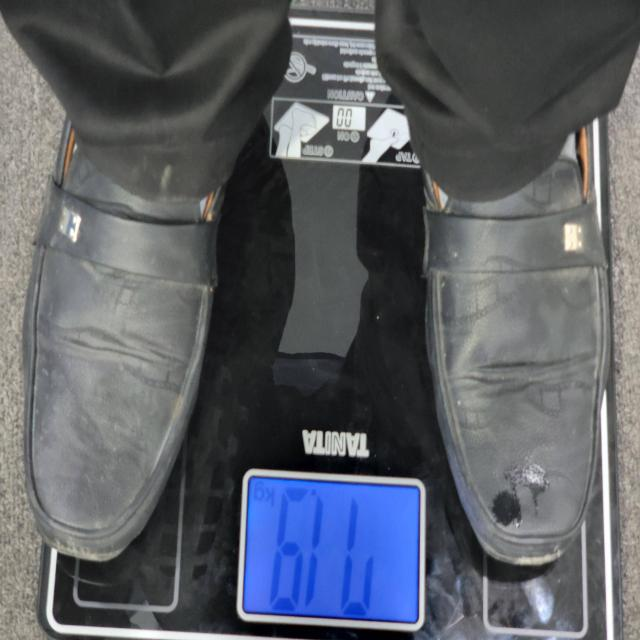ws: (234, 470, 427, 638)
